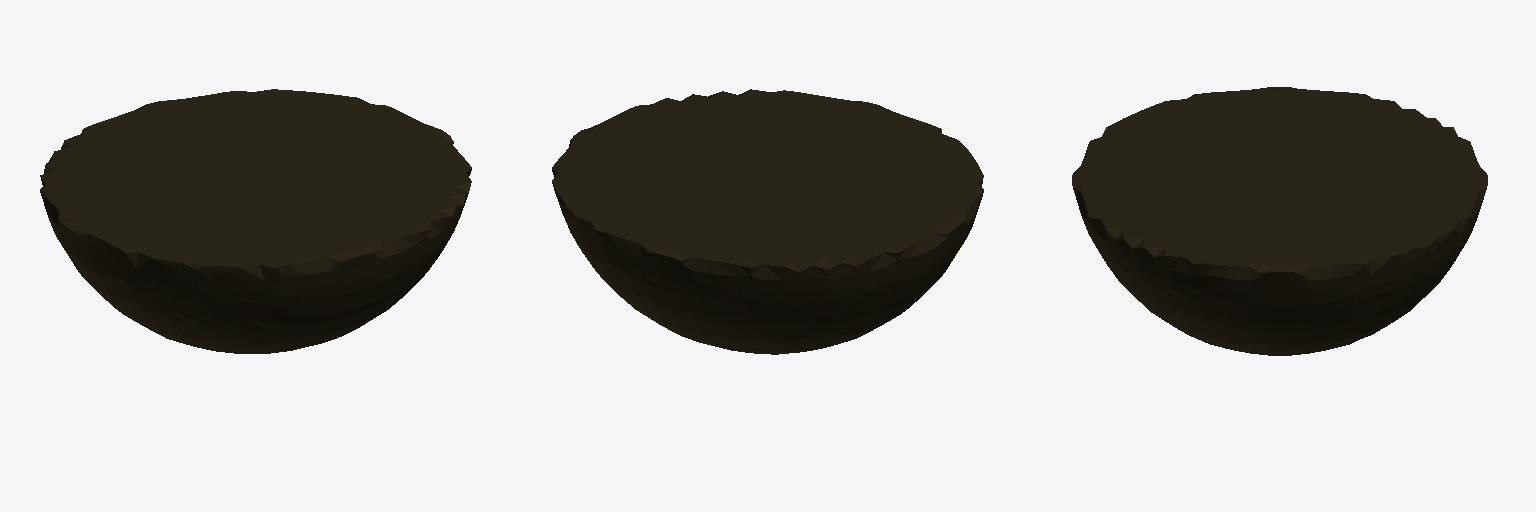
File: lowerlid.obj
3 views of the same model, side by side, from view 1: azimuth 30°, elevation 25°; view 2: azimuth 150°, elevation 25°; view 3: azimuth 270°, elevation 25° (orthographic).
Visible parts, largest first — view 1: Sphere.004_Sphere.005; view 2: Sphere.004_Sphere.005; view 3: Sphere.004_Sphere.005.
Boxes of the visible parts, <box> form: Sphere.004_Sphere.005: <box>40,89,471,353</box>; Sphere.004_Sphere.005: <box>552,89,983,354</box>; Sphere.004_Sphere.005: <box>1072,87,1487,355</box>.
Bounding box in the file's own units: 0.3682 × 0.1435 × 0.3491.